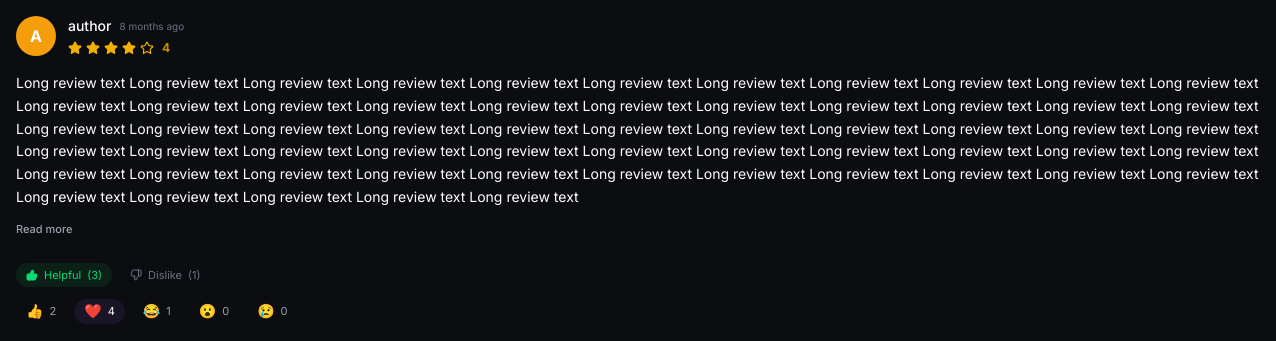
ReviewCard › collapses long reviews and toggles read more state
Click the button "Read more".
click(44, 229)  # box [16,220,72,237]
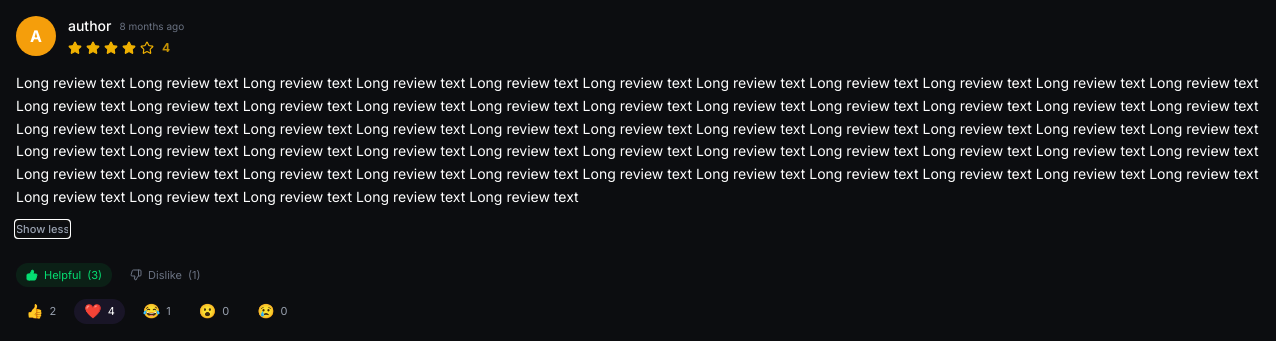
Expected: the button "Show less" is shown, [16,220,69,237]
